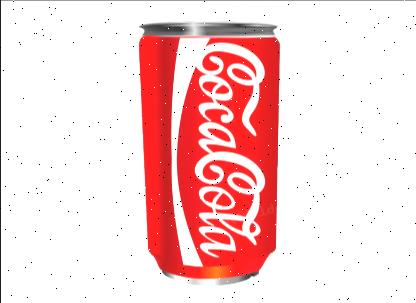Can: (138, 23, 279, 285)
